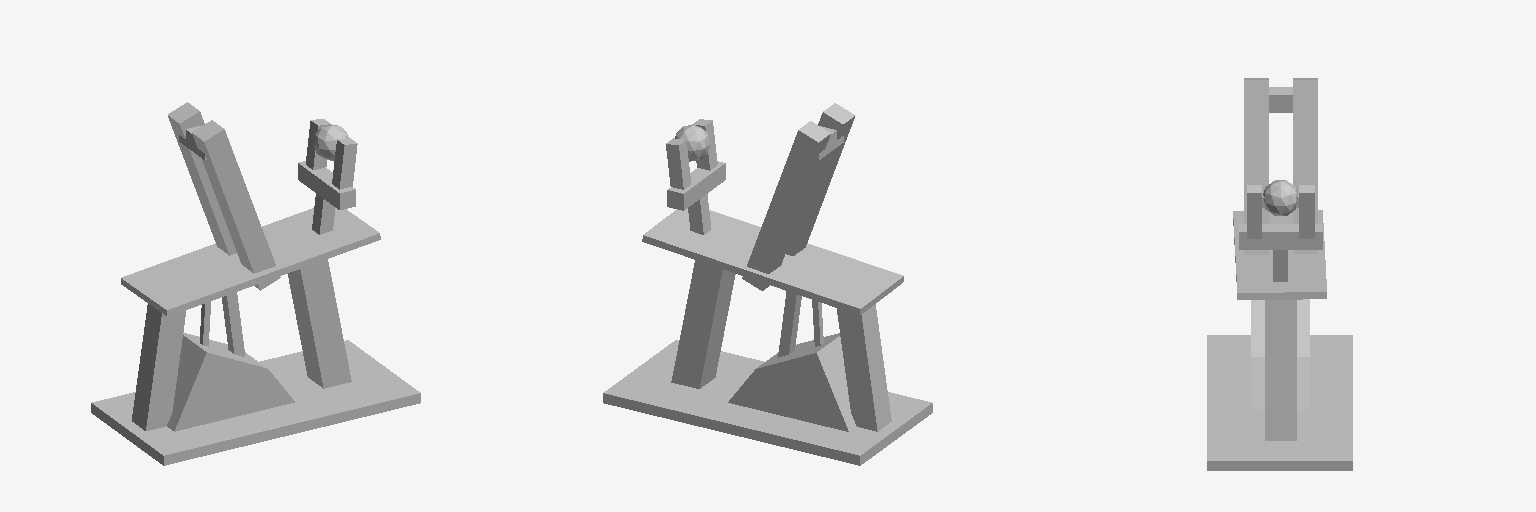
File: spinning_wheel_base.obj
3 renders of one model, left to right at view 1: azimuth 30°, elevation 25°; view 2: azimuth 150°, elevation 25°; view 3: azimuth 270°, elevation 25°, orthographic.
Visible parts, largest first — view 1: treadle_bar_Cube.012, table_Cube.006, treadle_Cube.013, leg4_Cube.010, leg1_Cube.007, leg3_Cube.011, leg2_Cube.008, maiden_Cube.017, leg2.001_Cube.018, leg6_Cube.014, flyer_Icosphere, leg1.001_Cube.016 (+1 smaller); view 2: treadle_bar_Cube.012, table_Cube.006, treadle_Cube.013, leg4_Cube.010, leg2_Cube.008, leg3_Cube.011, leg1_Cube.007, maiden_Cube.017, leg3.001_Cube.019, leg6_Cube.014, flyer_Icosphere, leg1.001_Cube.016 (+1 smaller); view 3: treadle_bar_Cube.012, leg4_Cube.010, table_Cube.006, leg1_Cube.007, leg2_Cube.008, treadle_Cube.013, maiden_Cube.017, flyer_Icosphere, leg3.001_Cube.019, leg2.001_Cube.018, joint_Cube.009.
Boxes of the visible parts, box(x1,y1,x2,y2) form: treadle_bar_Cube.012: box(91, 340, 420, 465); table_Cube.006: box(121, 208, 380, 316); treadle_Cube.013: box(167, 332, 294, 431); leg4_Cube.010: box(288, 259, 351, 388); leg1_Cube.007: box(192, 120, 280, 290); leg3_Cube.011: box(132, 304, 185, 430); leg2_Cube.008: box(168, 102, 236, 255); maiden_Cube.017: box(298, 161, 355, 209); leg2.001_Cube.018: box(332, 138, 357, 189); leg6_Cube.014: box(222, 292, 244, 356); flyer_Icosphere: box(313, 124, 348, 160); leg1.001_Cube.016: box(312, 194, 335, 234); treadle_bar_Cube.012: box(603, 340, 932, 465); table_Cube.006: box(642, 208, 903, 315); treadle_Cube.013: box(728, 333, 856, 431); leg4_Cube.010: box(671, 260, 735, 388); leg2_Cube.008: box(742, 121, 830, 290); leg3_Cube.011: box(837, 304, 891, 431); leg1_Cube.007: box(786, 103, 855, 255); maiden_Cube.017: box(667, 161, 725, 210); leg3.001_Cube.019: box(666, 138, 690, 189); leg6_Cube.014: box(778, 291, 801, 357); flyer_Icosphere: box(675, 124, 709, 161); leg1.001_Cube.016: box(688, 194, 710, 234); treadle_bar_Cube.012: box(1207, 335, 1352, 470); leg4_Cube.010: box(1265, 300, 1296, 440); table_Cube.006: box(1233, 210, 1326, 299); leg1_Cube.007: box(1244, 78, 1268, 254); leg2_Cube.008: box(1293, 78, 1317, 253); treadle_Cube.013: box(1251, 299, 1309, 409); maiden_Cube.017: box(1239, 224, 1322, 249); flyer_Icosphere: box(1263, 180, 1297, 215); leg3.001_Cube.019: box(1299, 185, 1314, 238); leg2.001_Cube.018: box(1247, 185, 1261, 238); joint_Cube.009: box(1269, 87, 1292, 112).
Bounding box in the file's own units: 0.9954 × 1.12 × 0.4861.